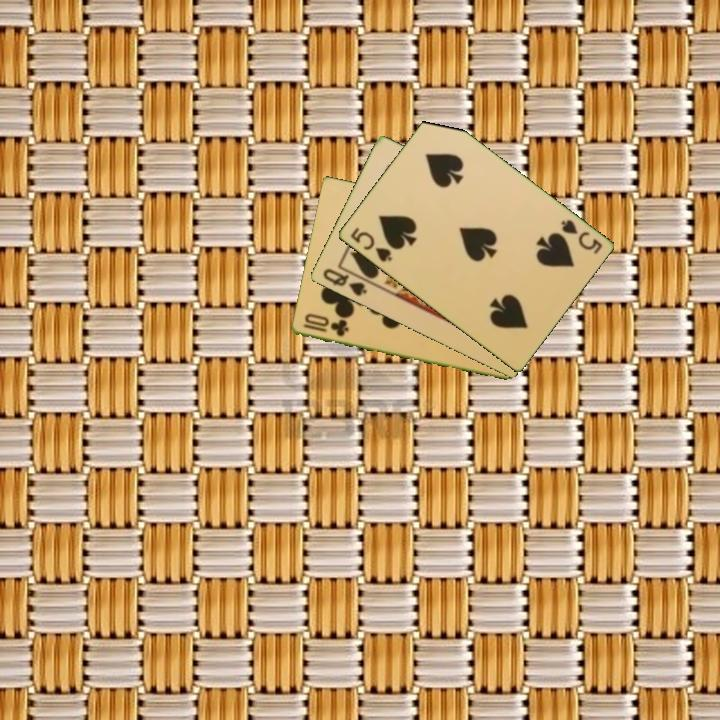10c: (299, 311, 351, 340)
5s: (346, 224, 395, 265), (557, 216, 605, 257)
Qs: (319, 265, 369, 299)
